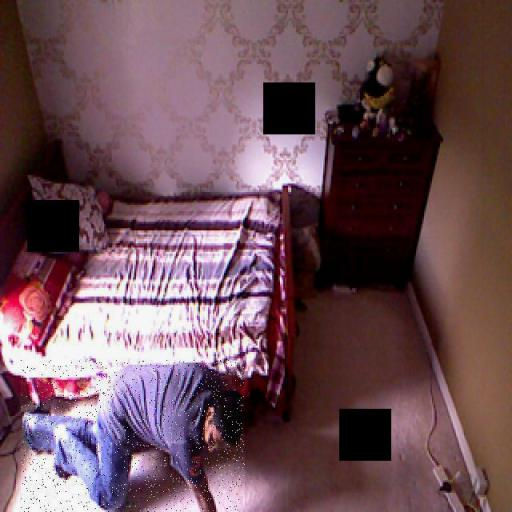Fall: (21, 360, 245, 512)
